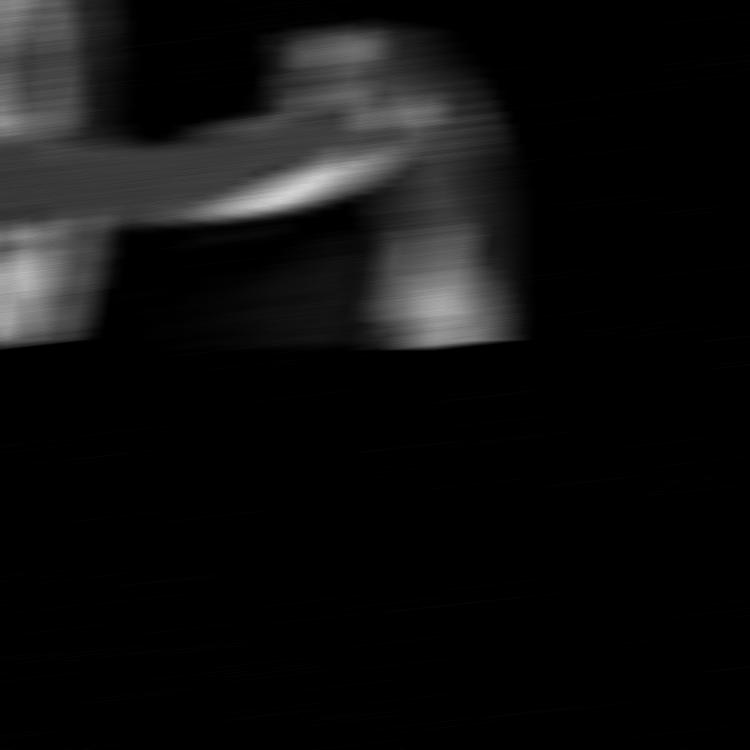Airbag: (0, 1, 499, 344)
